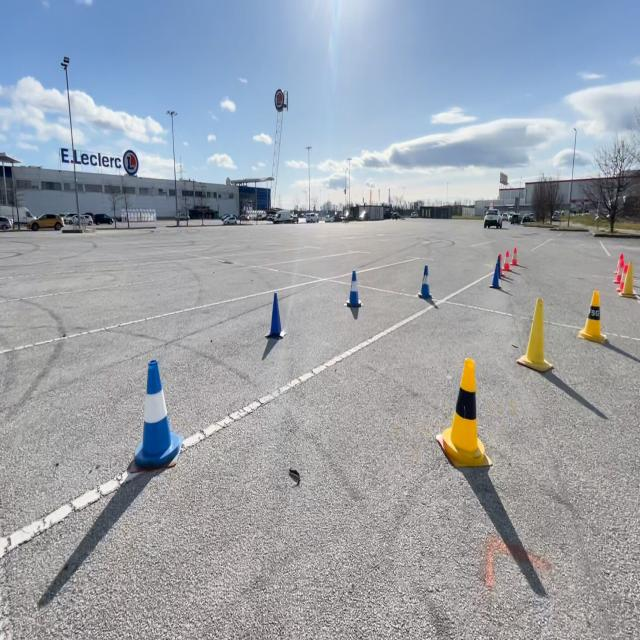blue_cone: (128, 357, 182, 472), (264, 290, 285, 338), (345, 267, 362, 308), (418, 262, 432, 300), (489, 253, 502, 289)
orange_cone: (619, 254, 629, 295), (614, 253, 626, 284), (501, 249, 510, 272), (512, 246, 520, 265)
yellow_cone: (436, 355, 491, 468), (516, 296, 554, 372), (577, 288, 606, 342), (618, 259, 637, 298)
